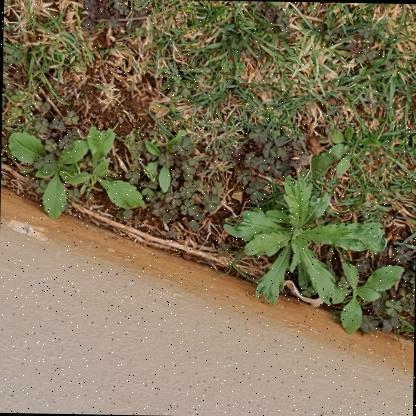Weeds: (221, 177, 388, 308), (59, 125, 147, 210), (4, 130, 86, 220), (320, 260, 403, 335)
